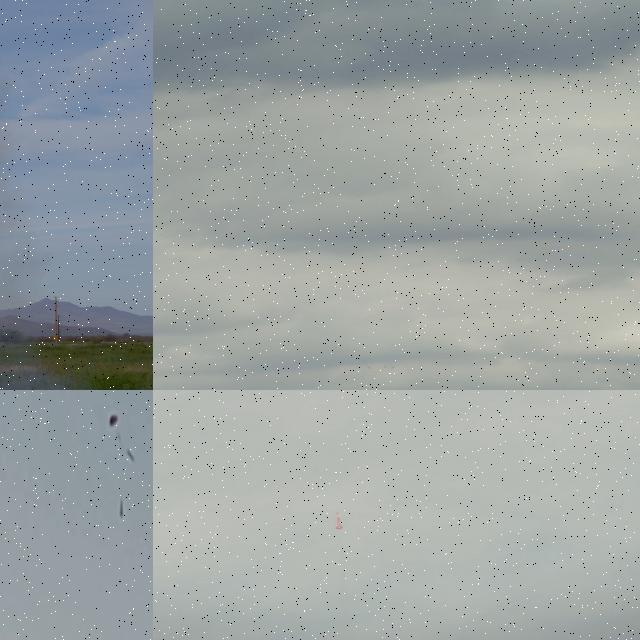Rocket: (336, 512, 344, 529), (120, 500, 123, 516)
